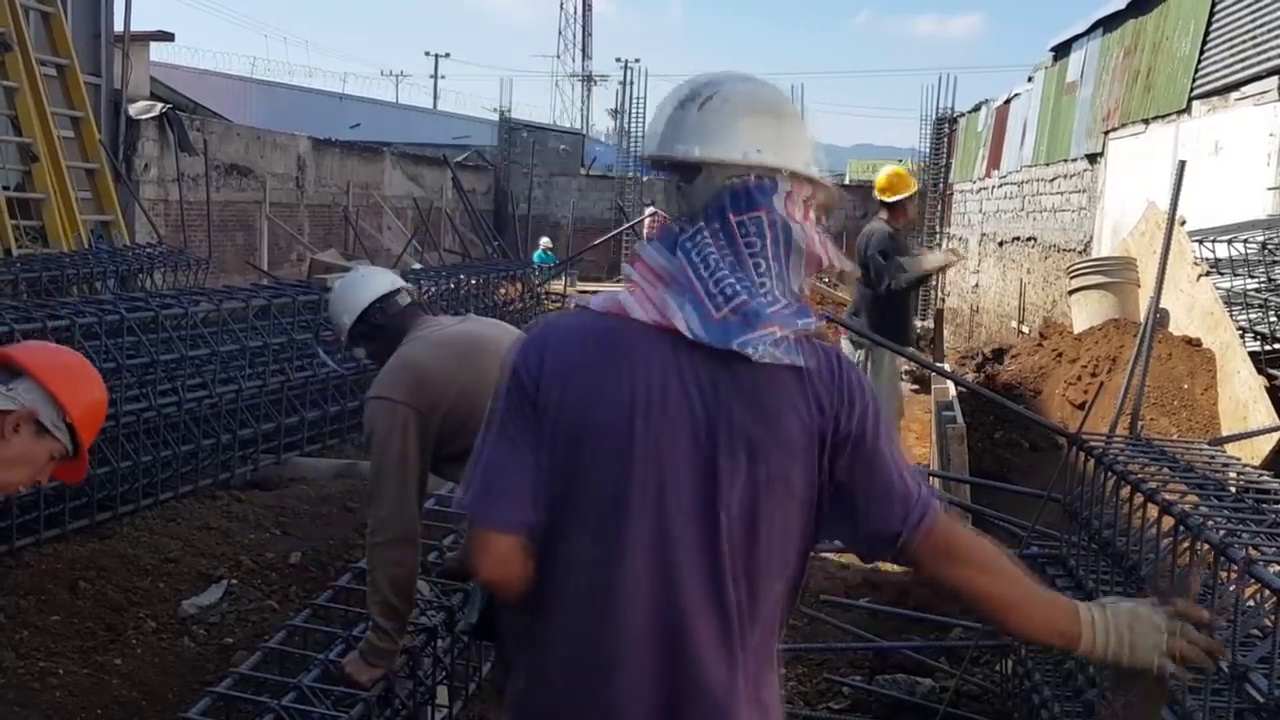helmet: (633, 73, 830, 203), (9, 346, 107, 480), (325, 263, 419, 366), (873, 161, 926, 207), (540, 238, 554, 248)
helmet-off: (640, 197, 653, 211)
helmet-on: (616, 70, 829, 347), (0, 332, 112, 510), (324, 257, 439, 382), (869, 159, 928, 226), (535, 238, 555, 255)
person: (445, 82, 1022, 699), (322, 244, 521, 673), (842, 152, 953, 443), (640, 197, 669, 247), (531, 239, 557, 285)
